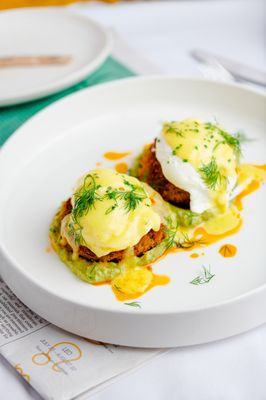curry: (1, 0, 263, 380)
